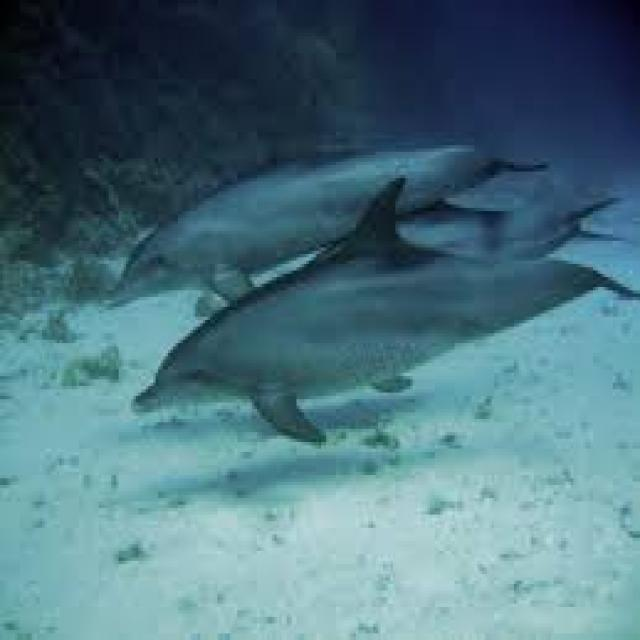dolphin: (104, 221, 640, 511), (109, 96, 541, 250)
